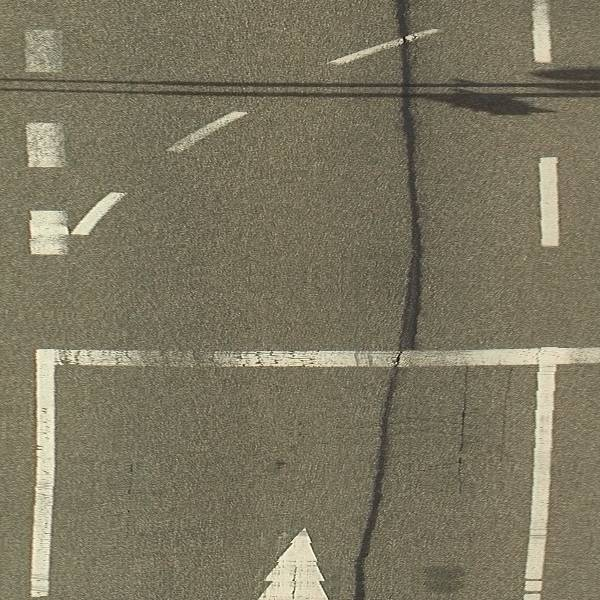road_damage: (441, 360, 523, 486)
